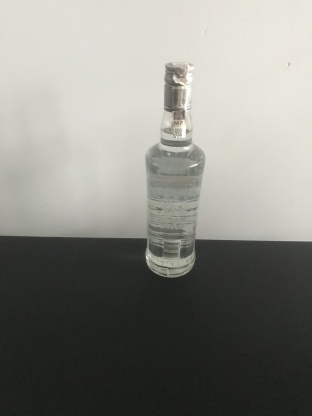nakretka: (162, 60, 195, 113)
